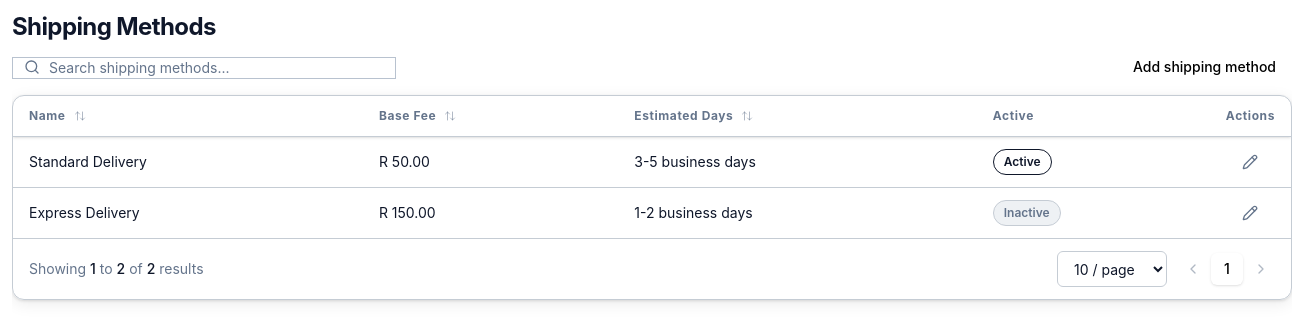
Scenario: ShippingMethodsPage › search filtering › filters the table to methods matching the search text
Step 1. Type "Express" into the field with placeholder "Search shipping methods..." → (204, 68), box 12,57 -> 396,79
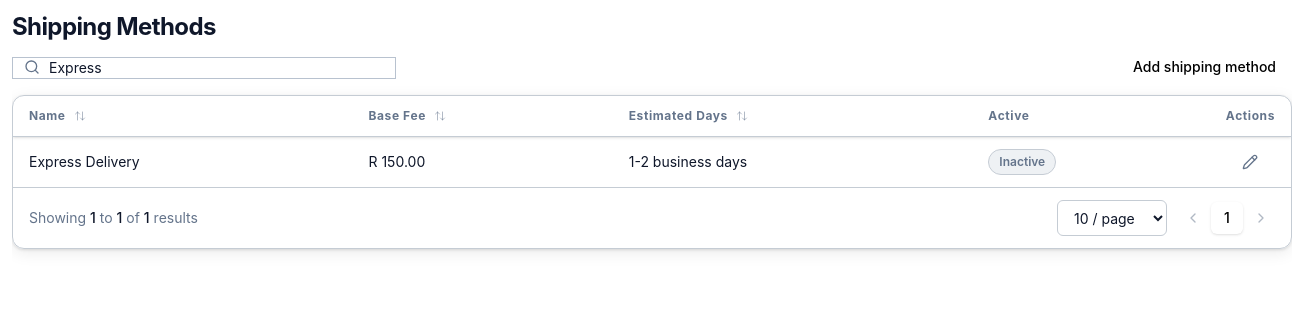
Expected: the text "Express Delivery" is shown, 13,136 -> 352,187
Expected: the text "Standard Delivery" is gone
